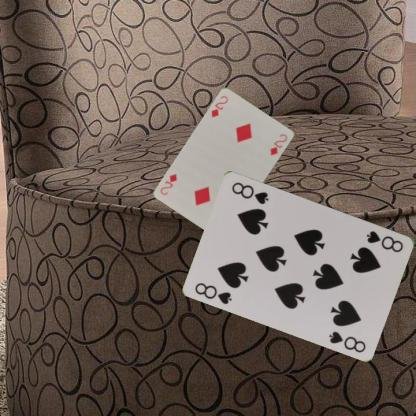2d: (209, 93, 230, 119)
8s: (364, 228, 405, 254), (192, 280, 233, 306)
